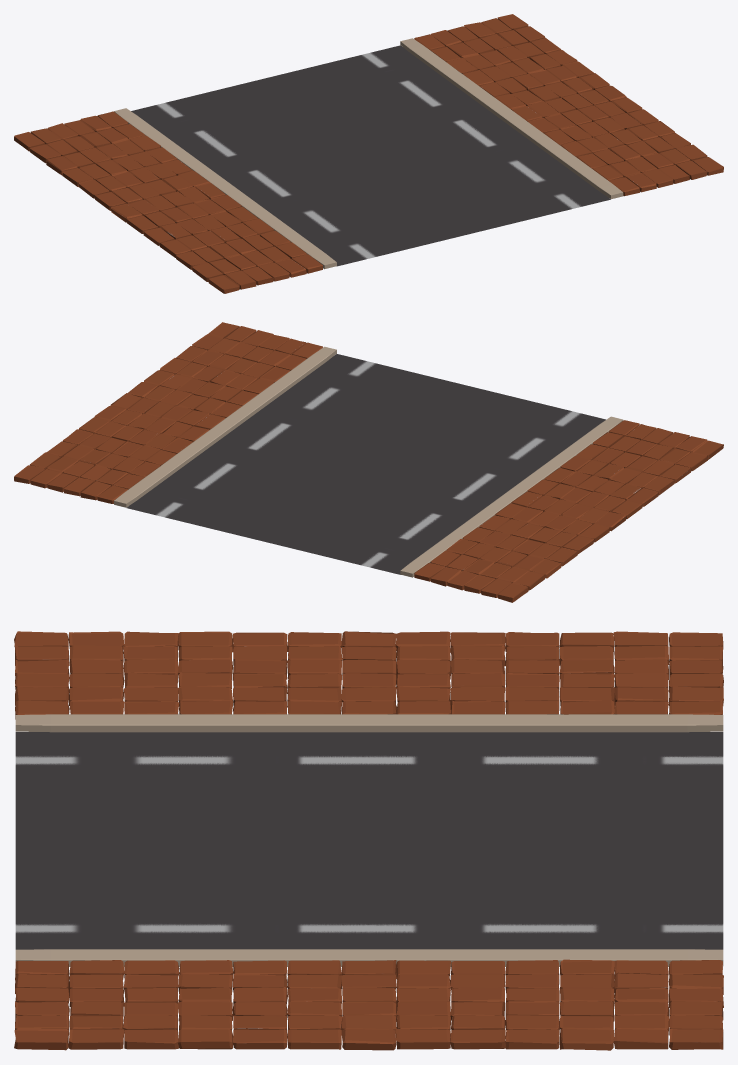
File: duong.fbx
3 renders of one model, top to bottom at view 1: azimuth 30°, elevation 25°; view 2: azimuth 150°, elevation 25°; view 3: azimuth 270°, elevation 25°, orthographic. The views are drawn at different scales.
Parts seen in each view (by area): view 1: Cube.001; view 2: Cube.001; view 3: Cube.001.
Part boxes in pixels (<box>): Cube.001: <box>14,14,723,293</box>; Cube.001: <box>14,322,723,602</box>; Cube.001: <box>14,631,723,1050</box>.
Bounding box in the file's own units: 1100 × 12.84 × 803.
Materials: 3 (3 with a texture image).
